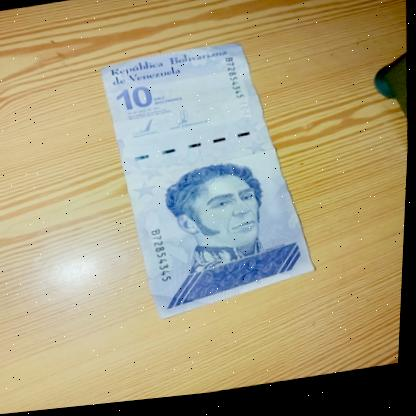ten-front-vef: (92, 33, 327, 332)
